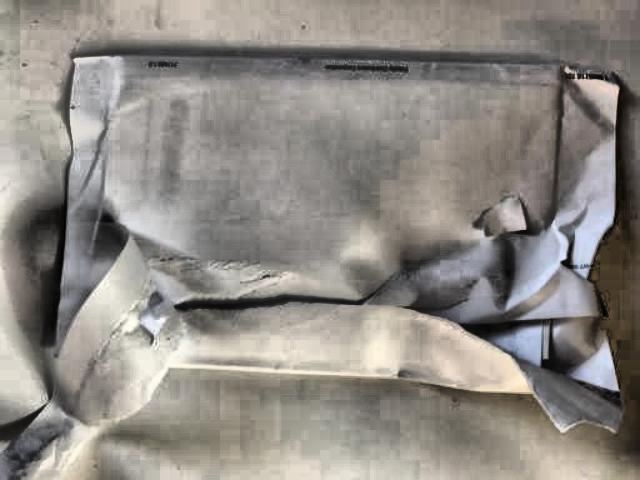Paper: (9, 55, 640, 471)
